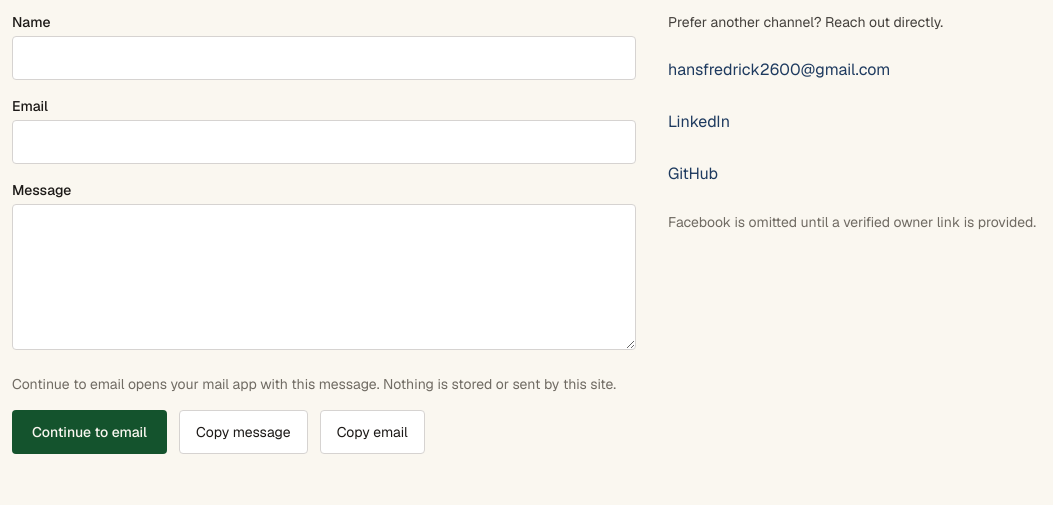
Test: ContactComposer › exposes copy email fallback
Click the button "Copy email": [372, 432] box [320,410,425,454]
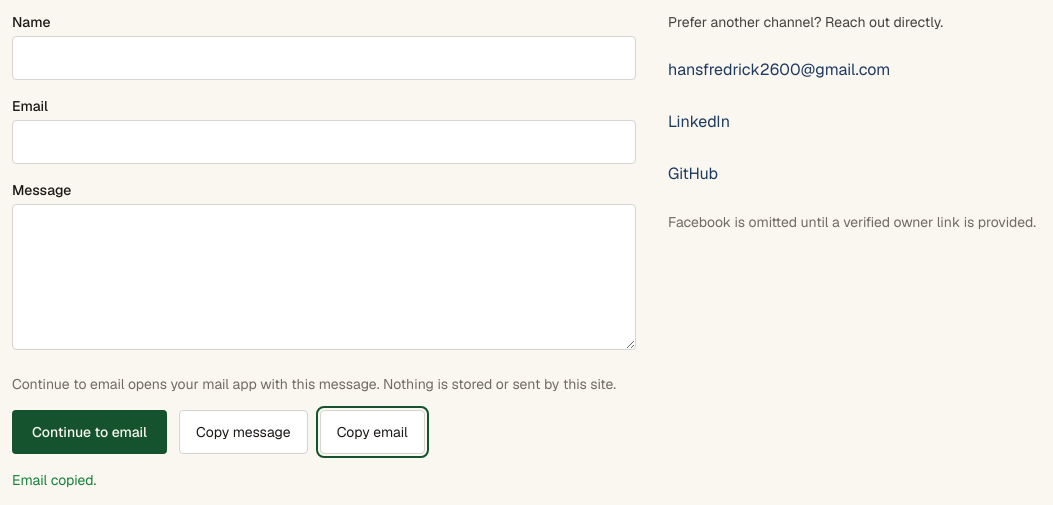
Expected: the text "Email copied." is shown, [12,471,96,489]
